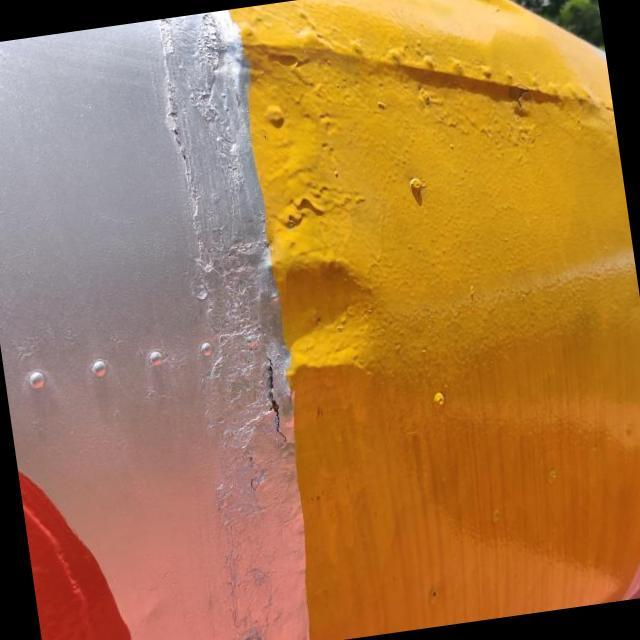Dent: (212, 202, 430, 426)
